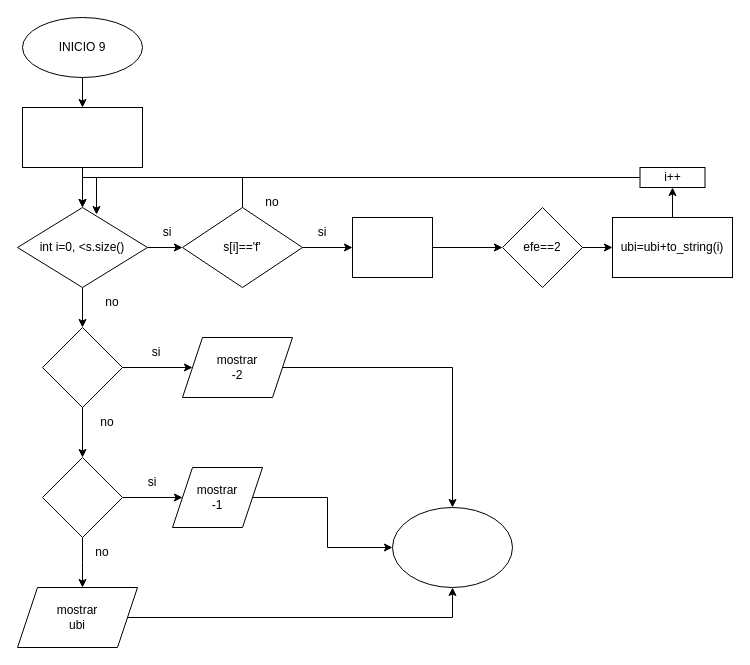
Some shapes in this 750 by 665 pixel diagram are drawn without their labels. Each missing label, with the centre of its shape:
"efe==0" belongs at pixel 82 367.
"efe==1" belongs at pixel 82 497.
"efe=efe+1" belongs at pixel 392 247.
"FIN" belongs at pixel 452 547.
"string s,int efe=0,string ubi" belongs at pixel 82 137.
